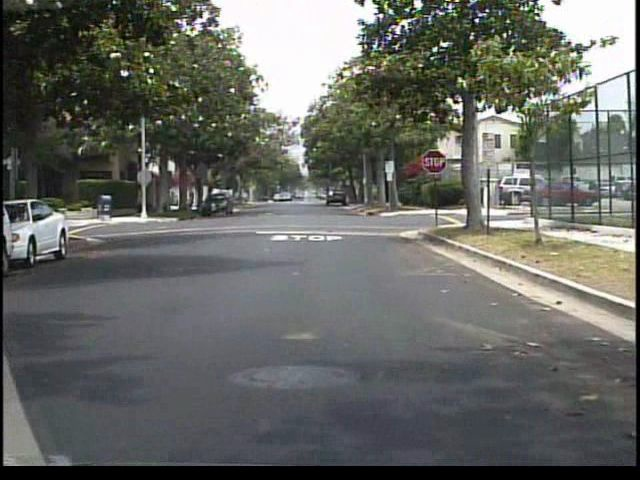person: (182, 179, 205, 223)
